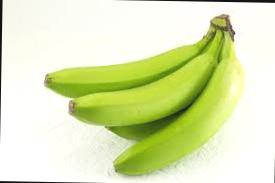Banana Unripe: (50, 3, 257, 183)
